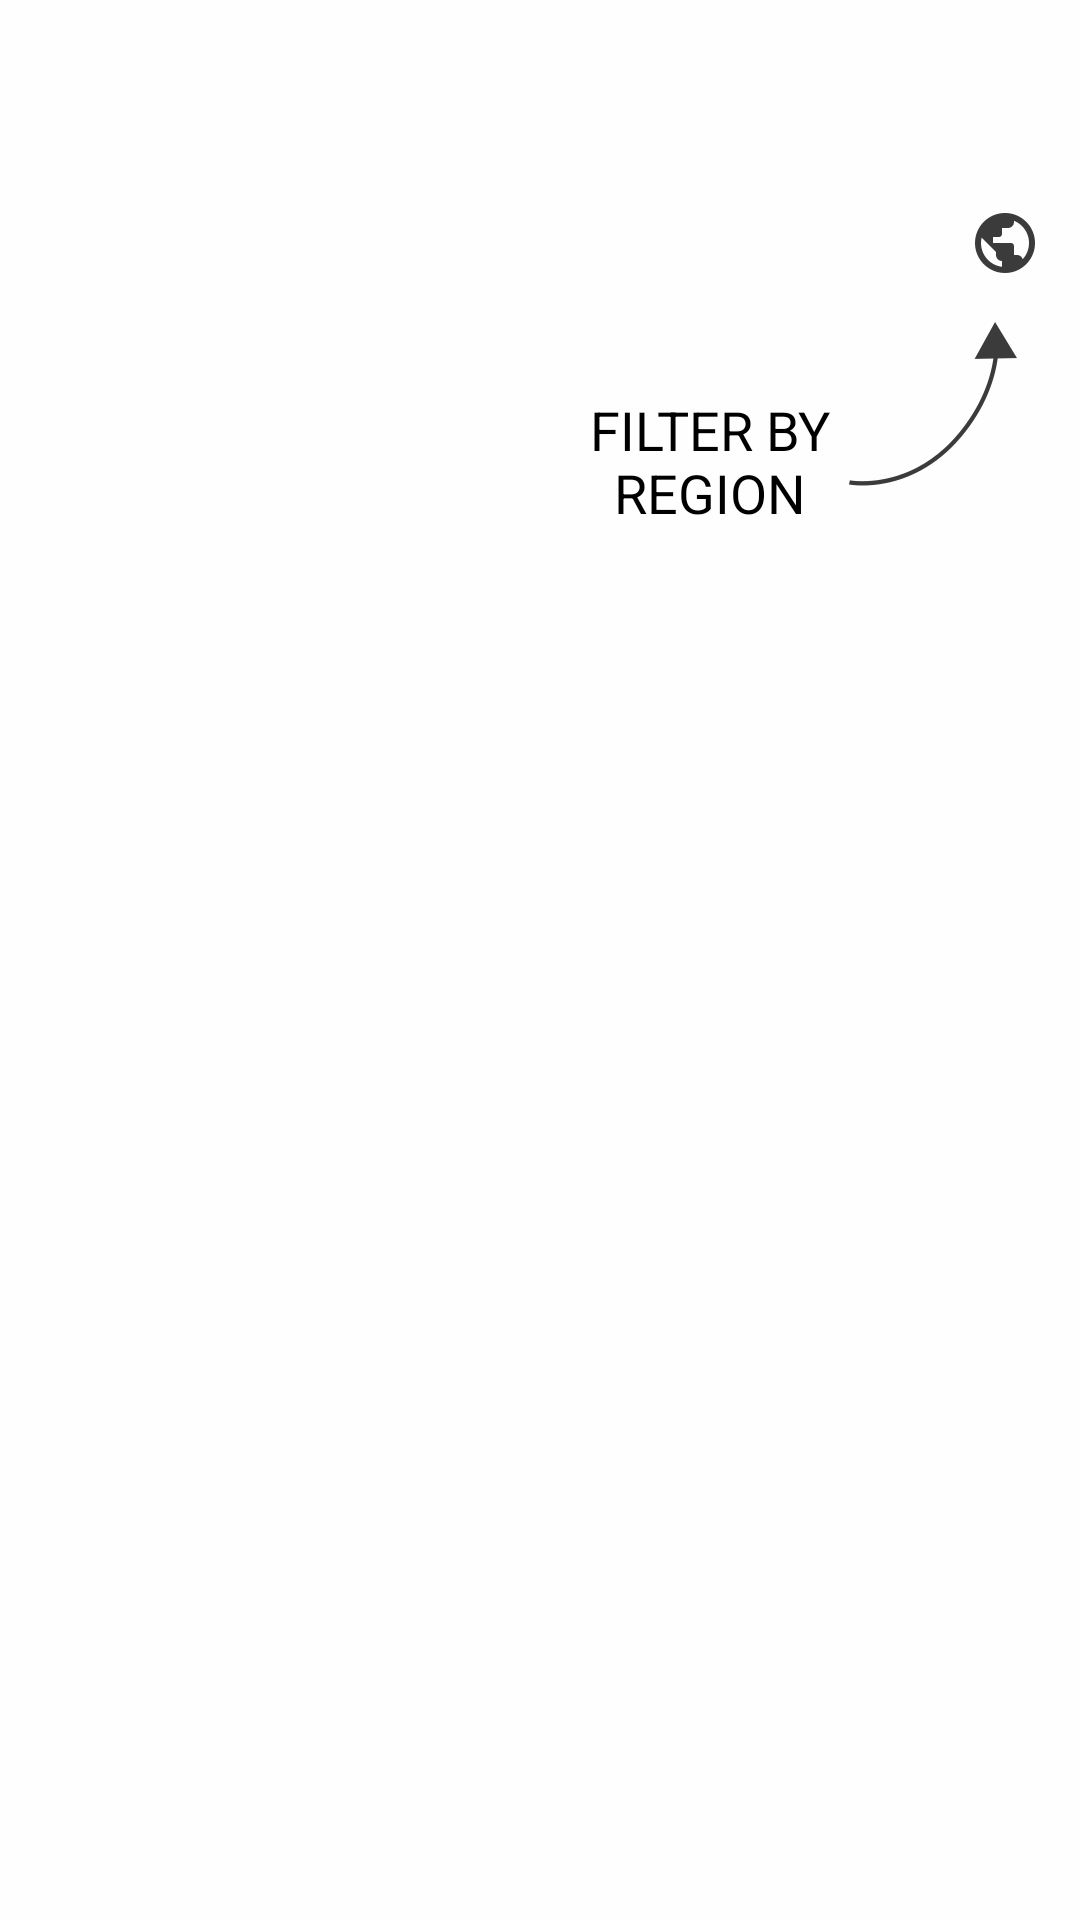

Locate icon controls on the screen. Image size 1080w x 1920h, boxes as (x1, y1, x2, y2).
arrow up: (849, 322, 1017, 486)
